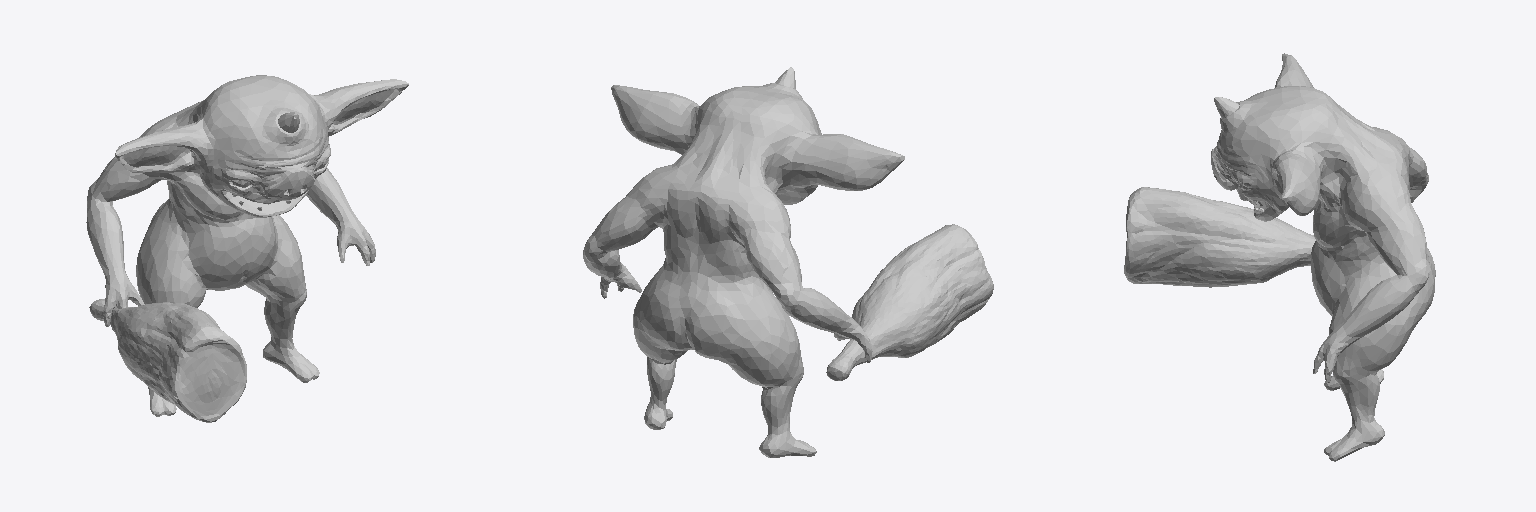
Rendered from Bokoblin3.obj.
3 renders of one model, left to right at view 1: azimuth 30°, elevation 25°; view 2: azimuth 150°, elevation 25°; view 3: azimuth 270°, elevation 25°, orthographic.
Visible parts, largest first — view 1: Group18025; view 2: Group18025; view 3: Group18025.
Part boxes in pixels (left/top/right/bottom): Group18025: left=86, top=75, right=408, bottom=422; Group18025: left=583, top=67, right=993, bottom=457; Group18025: left=1124, top=53, right=1435, bottom=461.
Size of the model in its own units: 6.09 by 6.15 by 5.32.